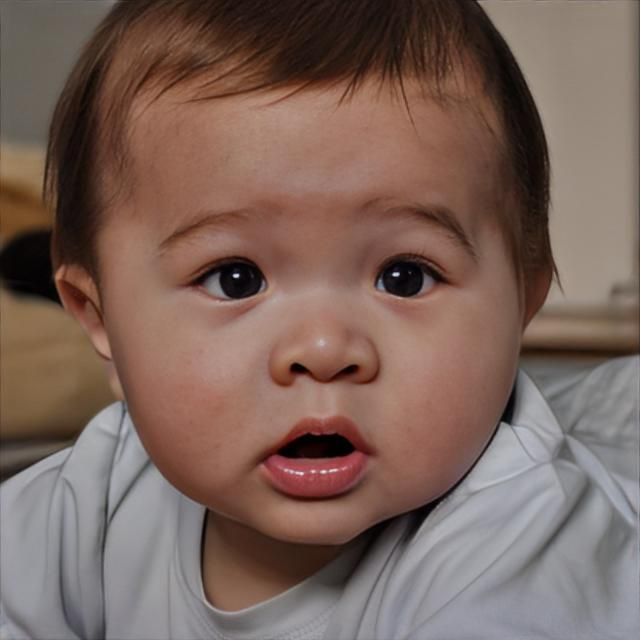surprise: (94, 23, 524, 548)
